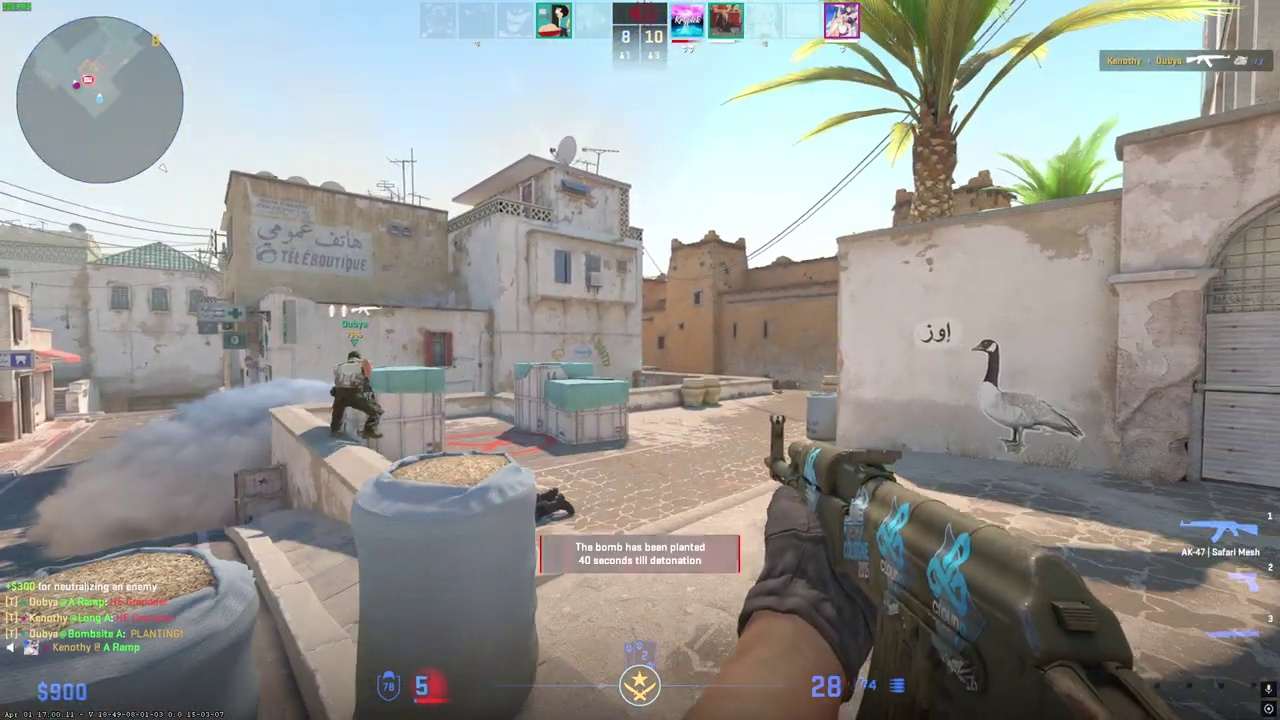Terrorist: (329, 350, 381, 439)
